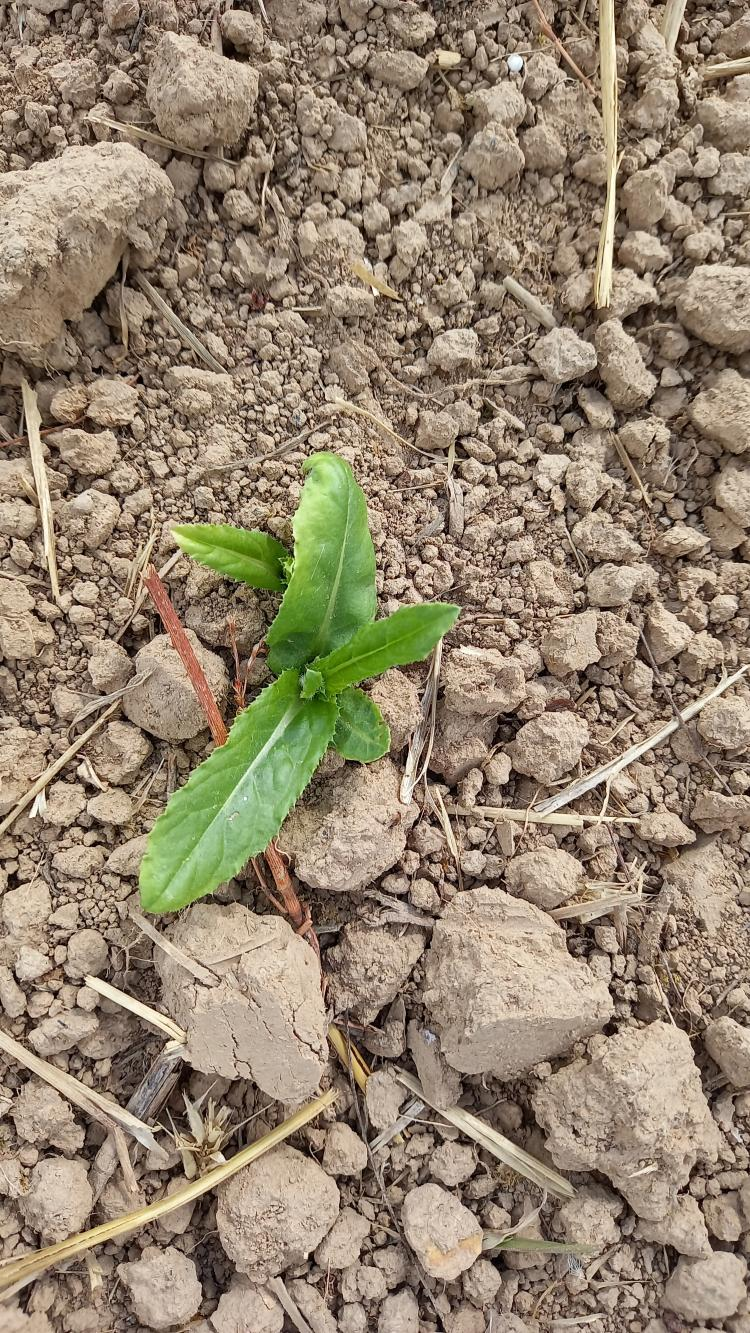bodyak: (137, 450, 465, 918)
